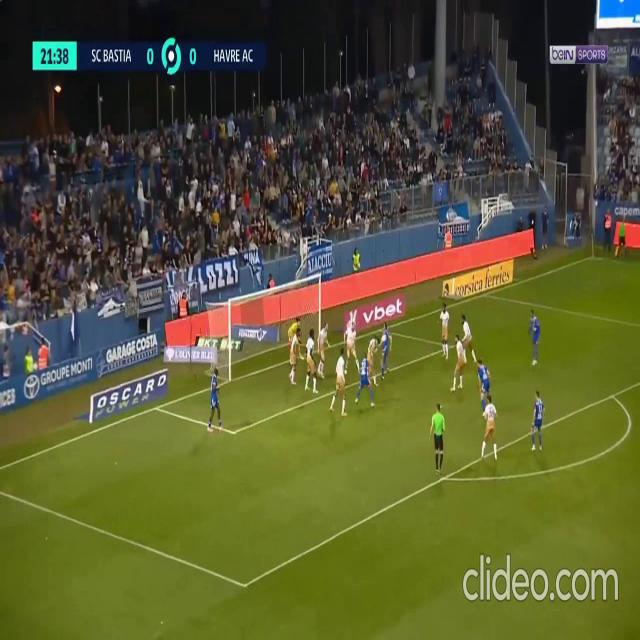player: (480, 394, 498, 459), (208, 363, 223, 433), (354, 350, 372, 408), (530, 390, 545, 451), (452, 333, 468, 389), (333, 347, 348, 405), (378, 322, 393, 378), (343, 316, 359, 365), (304, 326, 318, 380), (528, 308, 541, 366), (315, 323, 329, 374), (438, 302, 450, 358), (479, 356, 492, 406), (287, 324, 299, 375), (366, 333, 380, 375)
referee: (430, 402, 445, 474), (613, 217, 625, 259)
